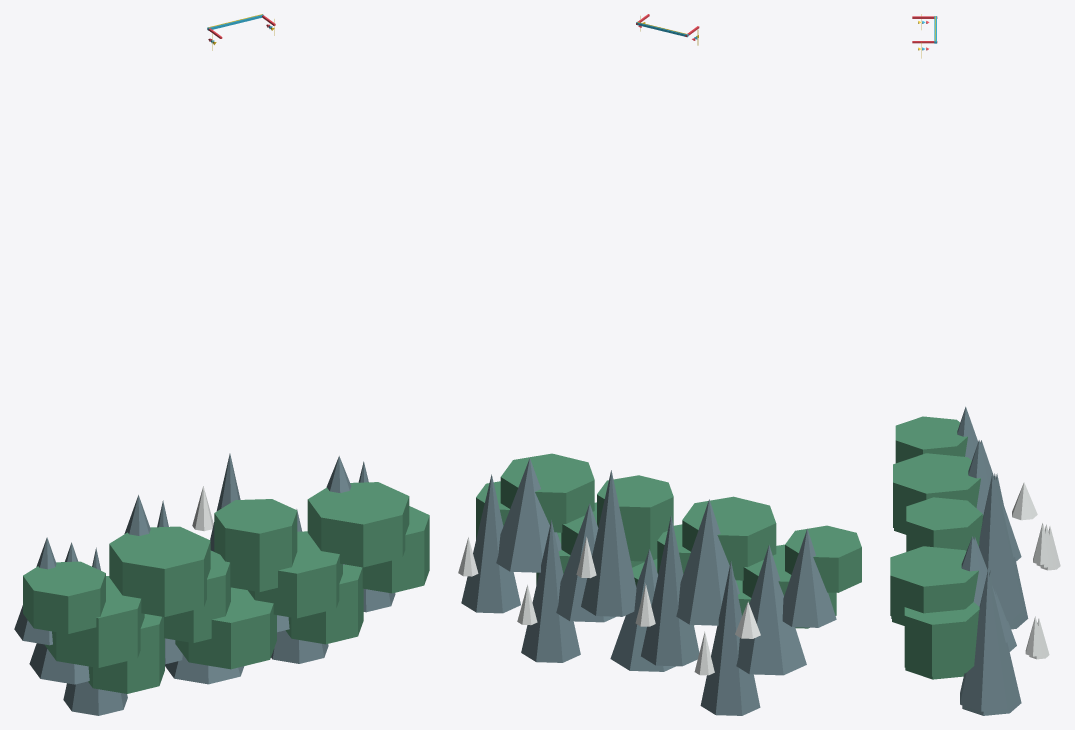
File: senku2_cordillera_r9.glb
3 views of the same model, side by side, from view 1: azimuth 30°, elevation 25°; view 2: azimuth 150°, elevation 25°; view 3: azimuth 270°, elevation 25° (orthographic). The views are drawn at different scales.
Parts seen in each view (by area): view 1: mountain foothill.003, mountain foothill.009, mountain foothill.006, mountain foothill, mountain foothill.005, mountain foothill.001, mountain foothill.007, mountain foothill.002, mountain foothill.008, mountain foothill.010, mountain foothill.004, faceted mountain peak.002 (+6 smaller); view 2: faceted mountain peak.001, faceted mountain peak.006, mountain foothill.009, mountain foothill.003, faceted mountain peak.002, faceted mountain peak.004, faceted mountain peak.003, mountain foothill.006, faceted mountain peak.008, faceted mountain peak.010, faceted mountain peak.009, mountain foothill (+5 smaller); view 3: mountain foothill.009, mountain foothill.010, faceted mountain peak.010, mountain foothill.003, mountain foothill.006, faceted mountain peak.006, mountain foothill, faceted mountain peak.003, faceted mountain peak.009, snow cap, faceted mountain peak, snow cap.003 (+4 smaller).
Part boxes in pixels (<box>): mountain foothill.003: <box>109,526,210,616</box>; mountain foothill.009: <box>307,482,409,567</box>; mountain foothill.006: <box>214,499,297,591</box>; mountain foothill: <box>23,561,105,633</box>; mountain foothill.005: <box>175,587,276,669</box>; mountain foothill.001: <box>44,576,144,667</box>; mountain foothill.007: <box>248,531,342,618</box>; mountain foothill.002: <box>88,614,164,693</box>; mountain foothill.008: <box>285,564,363,644</box>; mountain foothill.010: <box>362,506,429,593</box>; mountain foothill.004: <box>164,550,230,642</box>; faceted mountain peak.002: <box>63,547,127,715</box>; faceted mountain peak.001: <box>736,544,806,675</box>; faceted mountain peak.006: <box>581,470,636,616</box>; mountain foothill.009: <box>500,453,594,532</box>; mountain foothill.003: <box>682,496,776,580</box>; faceted mountain peak.002: <box>700,561,760,715</box>; faceted mountain peak.004: <box>641,515,699,666</box>; faceted mountain peak.003: <box>676,499,739,625</box>; mountain foothill.006: <box>597,475,673,561</box>; faceted mountain peak.008: <box>521,520,580,662</box>; faceted mountain peak.010: <box>461,474,520,613</box>; faceted mountain peak.009: <box>496,458,561,572</box>; mountain foothill: <box>785,525,861,592</box>; mountain foothill.009: <box>890,546,978,620</box>; mountain foothill.010: <box>904,602,979,676</box>; faceted mountain peak.010: <box>960,570,1019,711</box>; mountain foothill.003: <box>893,453,980,531</box>; mountain foothill.006: <box>906,497,982,551</box>; faceted mountain peak.006: <box>979,473,1023,620</box>; mountain foothill: <box>895,416,967,463</box>; faceted mountain peak.003: <box>968,440,1019,557</box>; faceted mountain peak.009: <box>961,536,1012,642</box>; snow cap: <box>1012,482,1037,520</box>; faceted mountain peak: <box>957,406,977,460</box>; snow cap.003: <box>1033,523,1053,564</box>.
Size of the model in its own units: 97.55 by 158 by 38.17.
